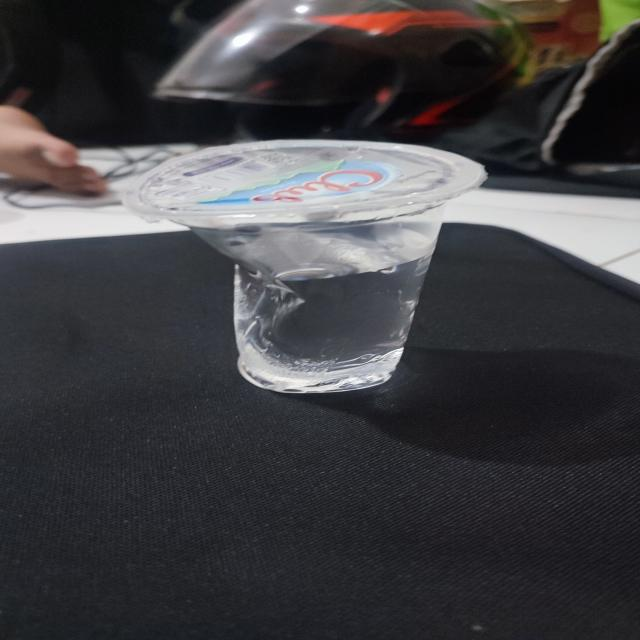air-gelas-rusak: (109, 134, 498, 403)
